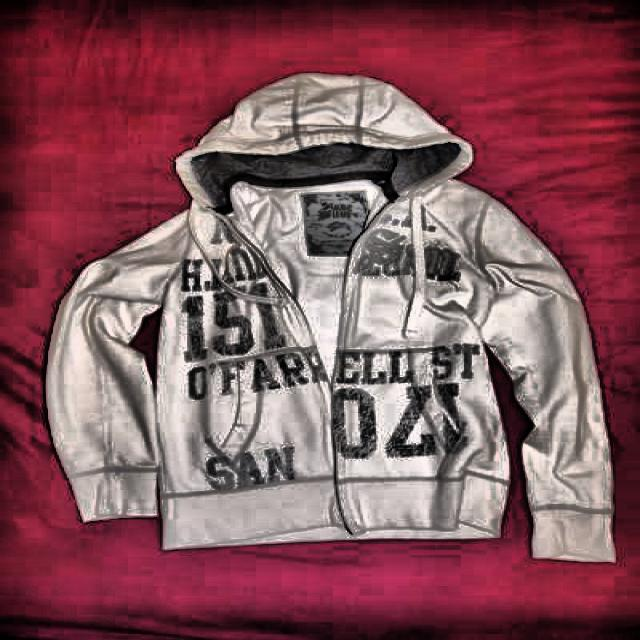clothes: (45, 72, 619, 569)
